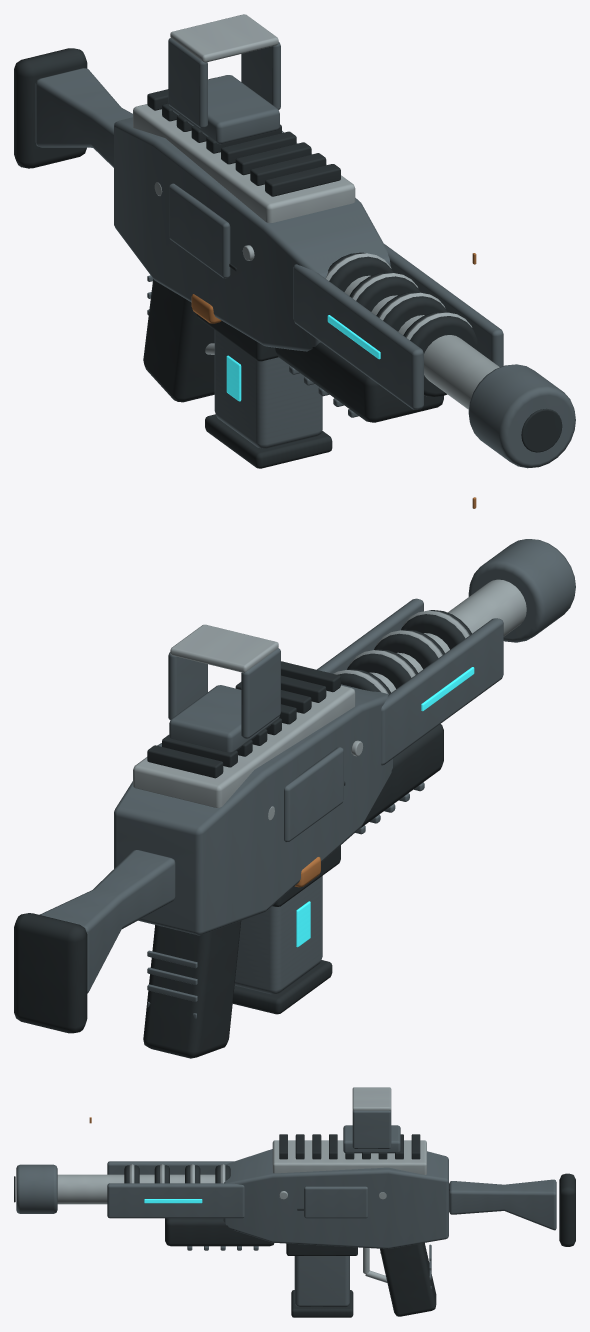
Rendered from coil-rifle-handling.glb.
3 renders of one model, top to bottom at view 1: azimuth 30°, elevation 25°; view 2: azimuth 150°, elevation 25°; view 3: azimuth 270°, elevation 25°, orthographic. The views are drawn at different scales.
Visible parts, largest first — view 1: RifleBody, ReloadCell; view 2: RifleBody, ReloadCell; view 3: RifleBody, ReloadCell.
Boxes of the visible parts, bbox=[...] form: RifleBody: bbox=[14, 14, 575, 468]; ReloadCell: bbox=[205, 330, 332, 468]; RifleBody: bbox=[14, 497, 575, 1058]; ReloadCell: bbox=[232, 876, 332, 1014]; RifleBody: bbox=[14, 1087, 575, 1316]; ReloadCell: bbox=[291, 1256, 353, 1317].
Size of the model in its own units: 0.286 by 0.8564 by 2.04.
5 materials, 5 textured.
